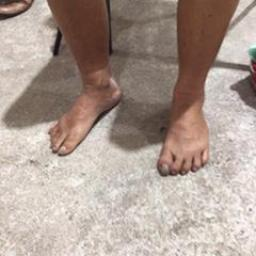Front View -Both Feet-: (43, 52, 227, 187)
